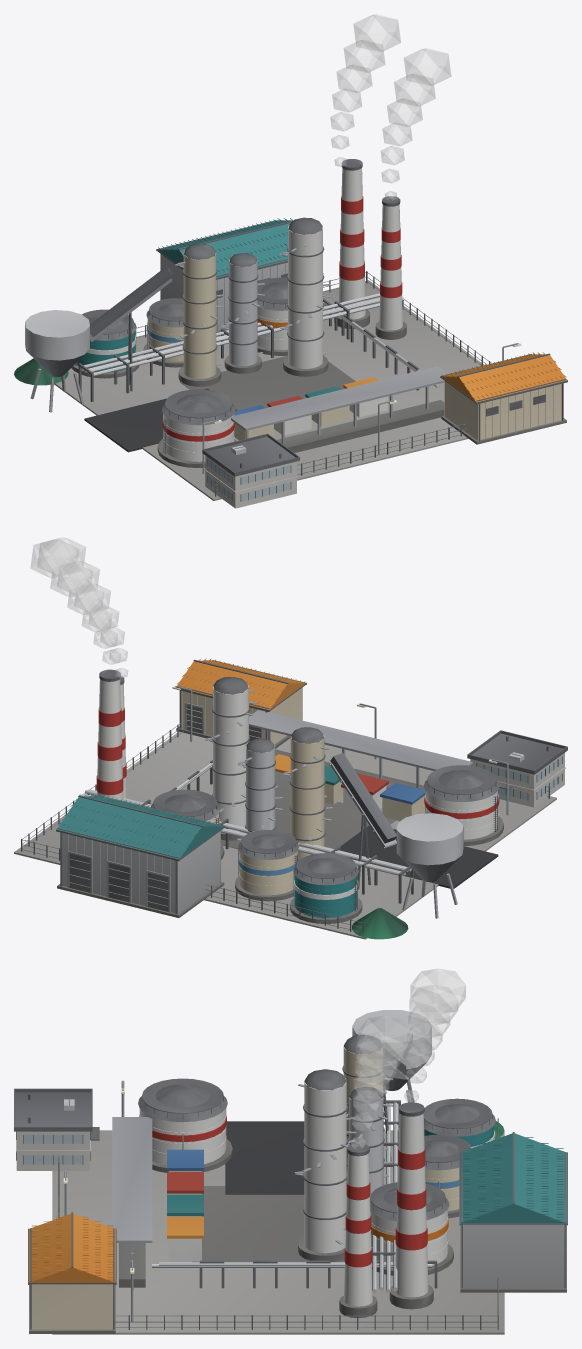
The model's file is Refinery_P2.fbx.
3 renders of one model, top to bottom at view 1: azimuth 30°, elevation 25°; view 2: azimuth 150°, elevation 25°; view 3: azimuth 270°, elevation 25°, orthographic. The views are drawn at different scales.
Parts seen in each view (by area): view 1: Refinery.Pad, Refinery.Shed, Refinery.Bay, Refinery.Col2, Refinery.Office, Refinery.Hall, Refinery.Col0, Refinery.Tank0, Refinery.Smoke0, Refinery.Smoke1, Refinery.Intake, Refinery.Stack0 (+11 smaller); view 2: Refinery.Pad, Refinery.Hall, Refinery.Shed, Refinery.Col2, Refinery.Office, Refinery.Tank0, Refinery.Tank1, Refinery.Smoke0, Refinery.Col0, Refinery.Bay, Refinery.Intake, Refinery.Tank2 (+10 smaller); view 3: Refinery.Pad, Refinery.Hall, Refinery.Shed, Refinery.Col2, Refinery.Office, Refinery.Tank0, Refinery.Stack0, Refinery.Bay, Refinery.Stack1, Refinery.Smoke0, Refinery.Smoke1, Refinery.Utils (+10 smaller).
Boxes of the visible parts, bbox=[...] form: Refinery.Pad: bbox=[54, 280, 484, 500]; Refinery.Shed: bbox=[440, 352, 567, 444]; Refinery.Bay: bbox=[231, 366, 463, 452]; Refinery.Col2: bbox=[280, 217, 330, 376]; Refinery.Office: bbox=[202, 433, 299, 508]; Refinery.Hall: bbox=[156, 218, 293, 332]; Refinery.Col0: bbox=[175, 243, 223, 386]; Refinery.Tank0: bbox=[157, 389, 236, 467]; Refinery.Smoke0: bbox=[330, 14, 400, 166]; Refinery.Smoke1: bbox=[381, 48, 451, 200]; Refinery.Intake: bbox=[25, 310, 89, 412]; Refinery.Stack0: bbox=[334, 159, 369, 328]; Refinery.Pad: bbox=[14, 731, 556, 939]; Refinery.Hall: bbox=[56, 794, 225, 917]; Refinery.Shed: bbox=[176, 658, 306, 748]; Refinery.Col2: bbox=[204, 677, 257, 840]; Refinery.Office: bbox=[467, 730, 567, 807]; Refinery.Tank0: bbox=[424, 765, 503, 845]; Refinery.Tank1: bbox=[290, 853, 362, 923]; Refinery.Smoke0: bbox=[37, 537, 127, 677]; Refinery.Col0: bbox=[282, 727, 332, 860]; Refinery.Bay: bbox=[249, 710, 472, 789]; Refinery.Intake: bbox=[396, 813, 463, 918]; Refinery.Tank2: bbox=[235, 830, 298, 901]; Refinery.Pad: bbox=[52, 1121, 504, 1334]; Refinery.Hall: bbox=[459, 1132, 567, 1292]; Refinery.Shed: bbox=[28, 1212, 116, 1333]; Refinery.Col2: bbox=[294, 1069, 356, 1262]; Refinery.Office: bbox=[14, 1088, 99, 1170]; Refinery.Tank0: bbox=[138, 1078, 232, 1172]; Refinery.Stack0: bbox=[389, 1102, 433, 1309]; Refinery.Bay: bbox=[112, 1117, 152, 1289]; Refinery.Stack1: bbox=[339, 1143, 377, 1317]; Refinery.Smoke0: bbox=[404, 968, 465, 1101]; Refinery.Smoke1: bbox=[351, 1016, 412, 1148]; Refinery.Utils: bbox=[167, 1149, 203, 1261].
Bounding box in the file's own units: 8771 × 5886 × 8327.
